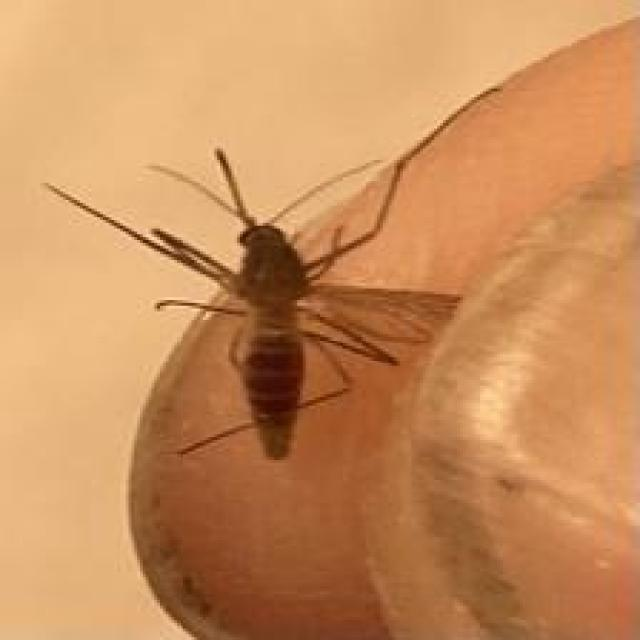Culex: (42, 143, 467, 463)
